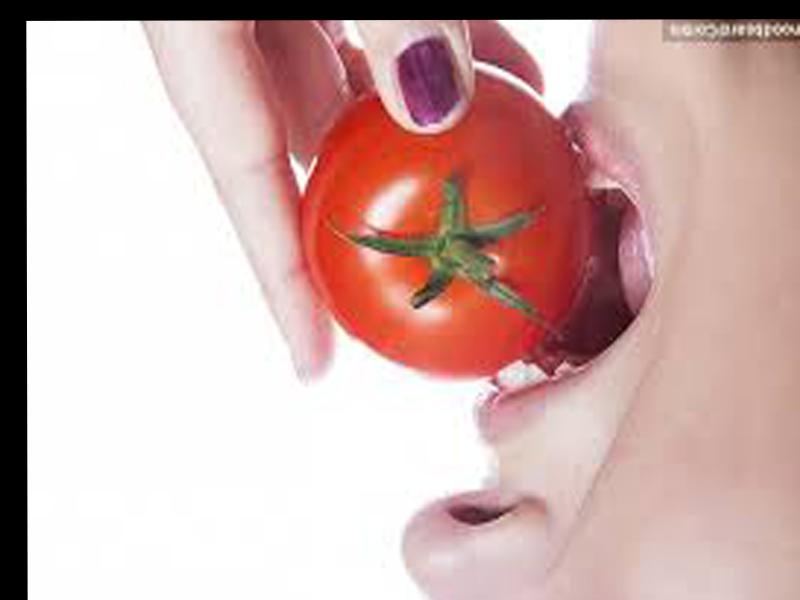Tomato: (298, 61, 589, 379)
